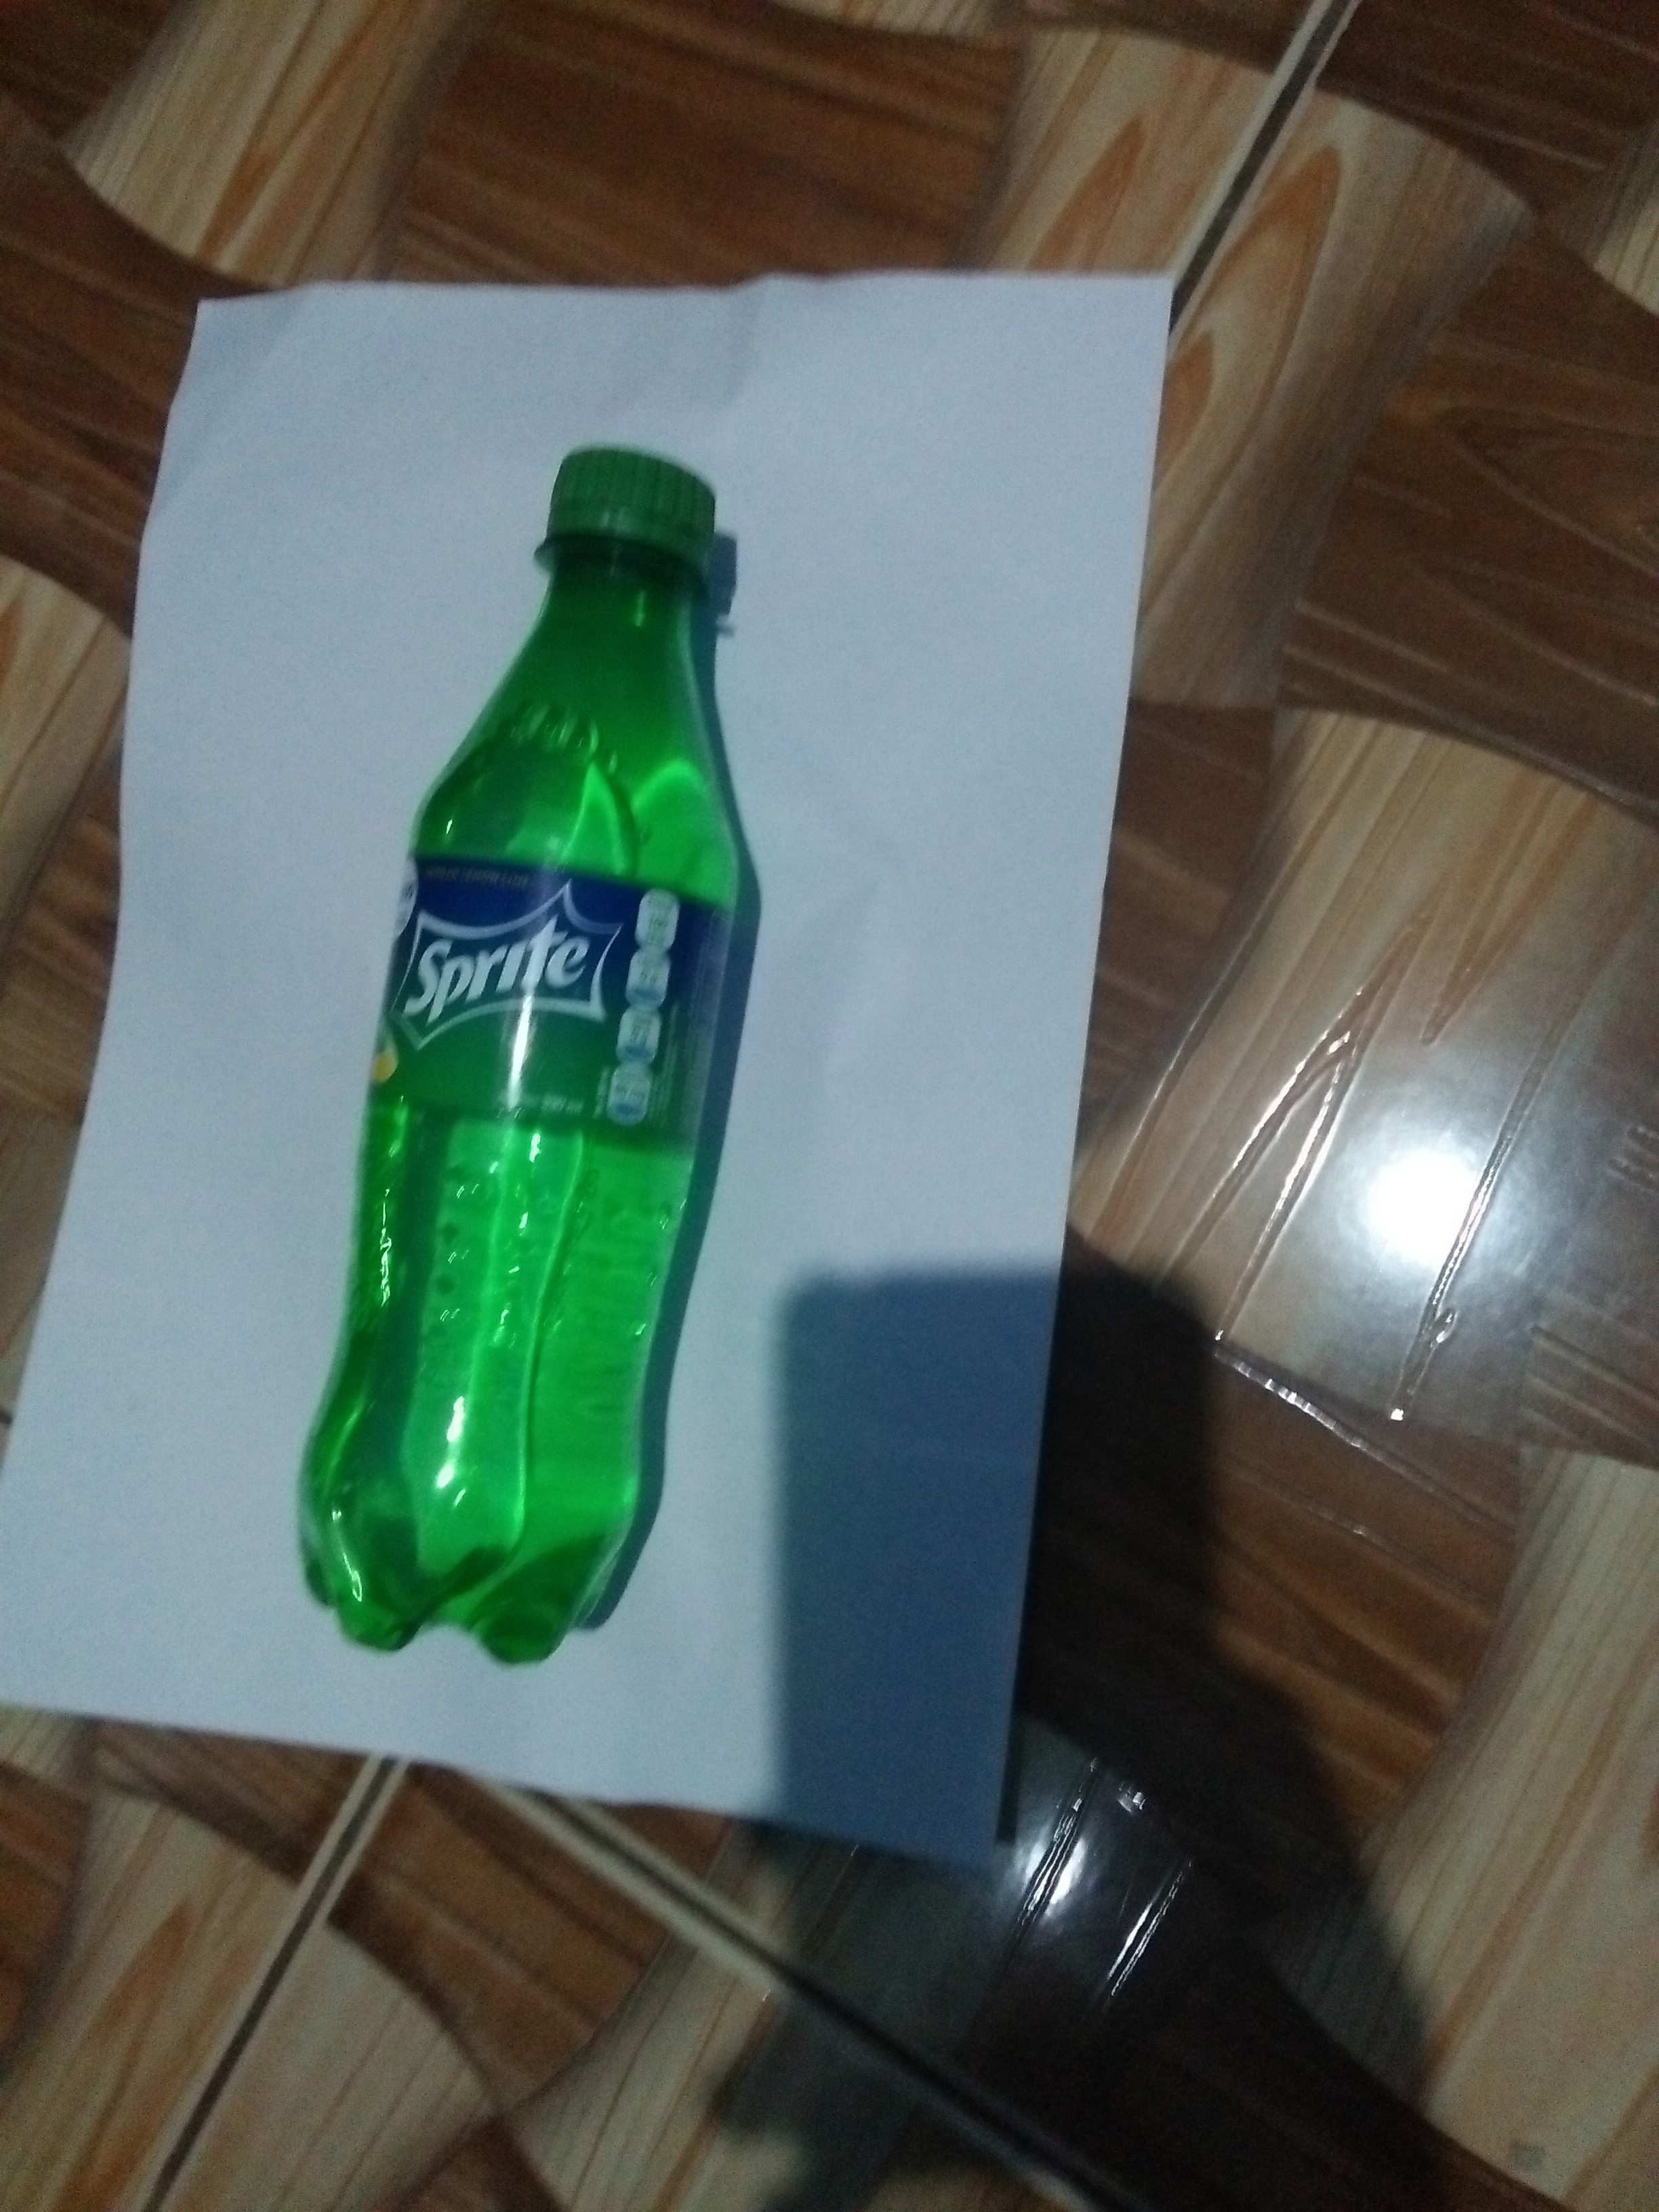Sprite: (275, 441, 779, 1684)
